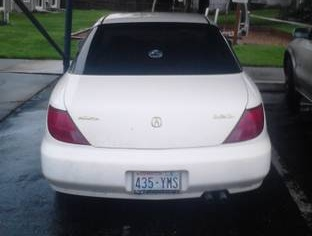acura: (36, 7, 273, 205)
